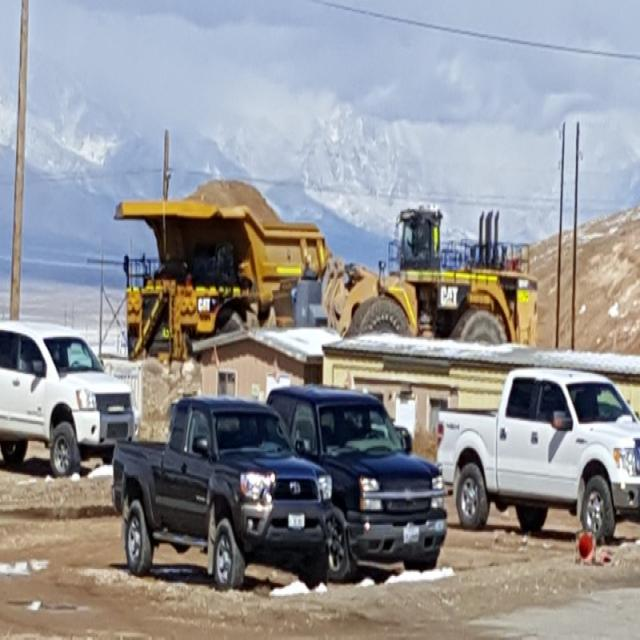dump_truck: (108, 155, 322, 356)
light_vehicle: (110, 388, 330, 604), (436, 344, 639, 548), (302, 356, 447, 574), (0, 307, 133, 478)
